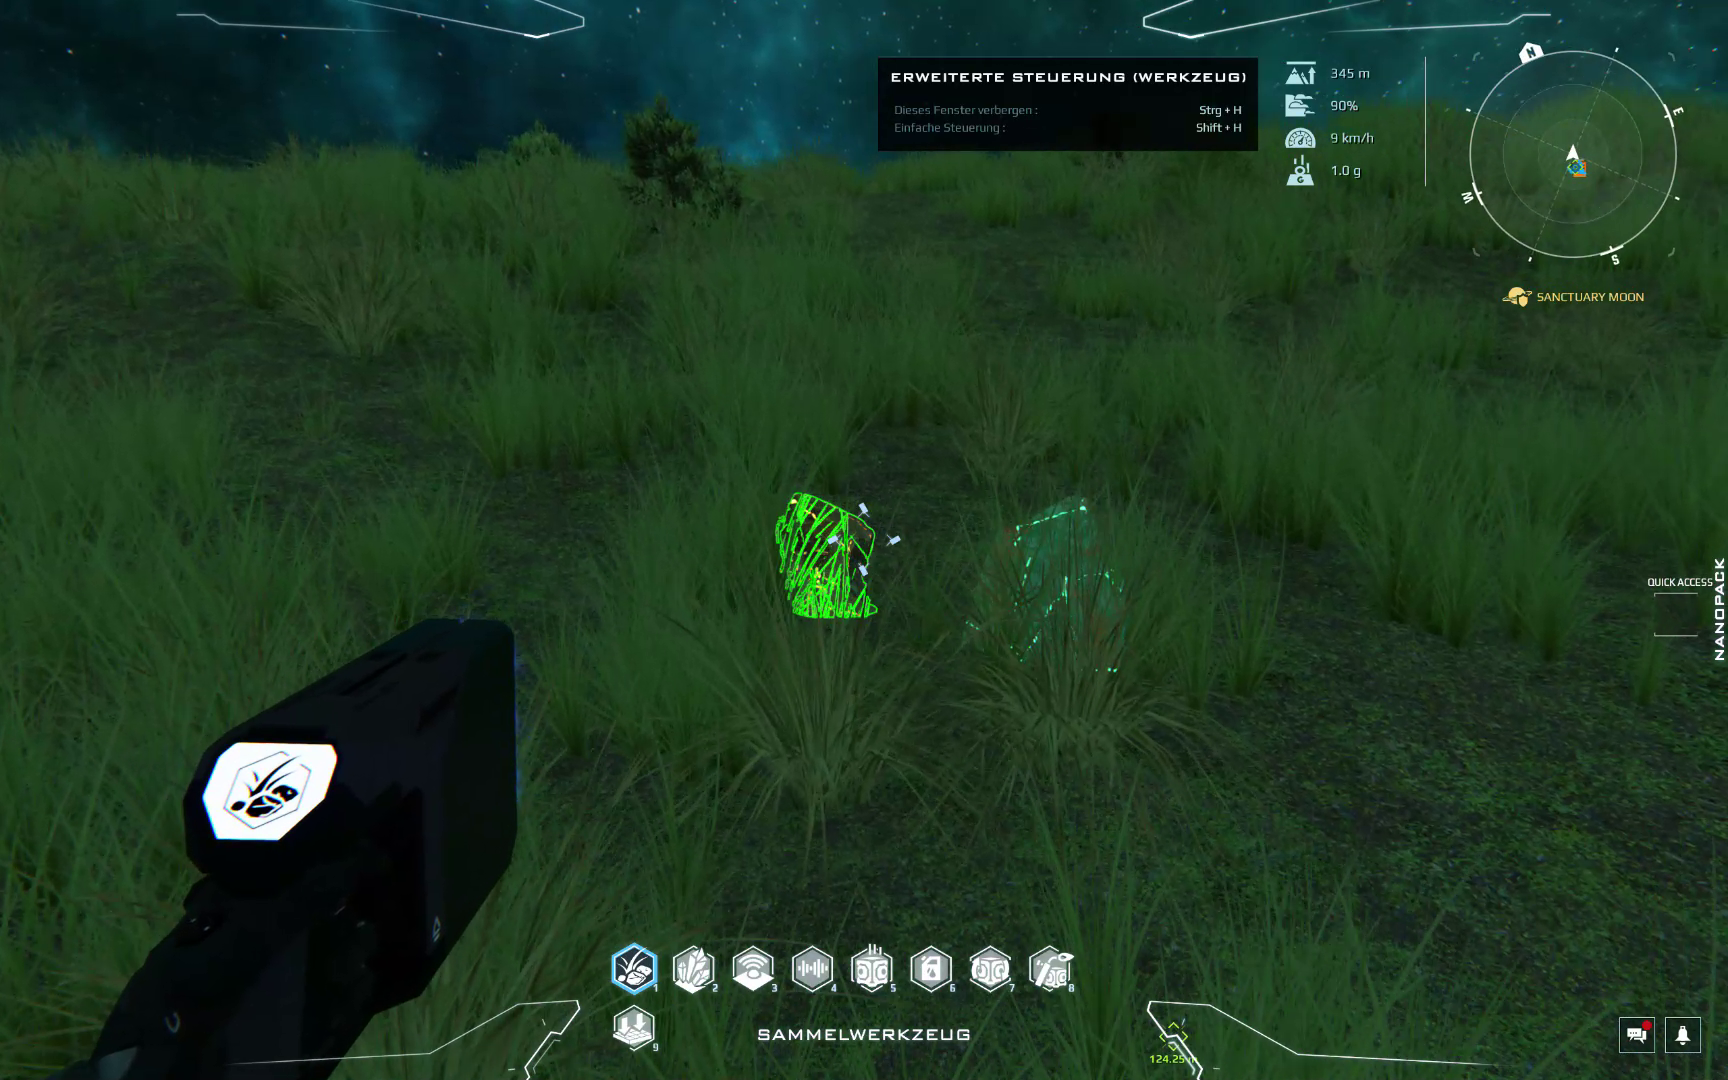Ore: (960, 491, 1126, 674), (770, 490, 880, 625)
